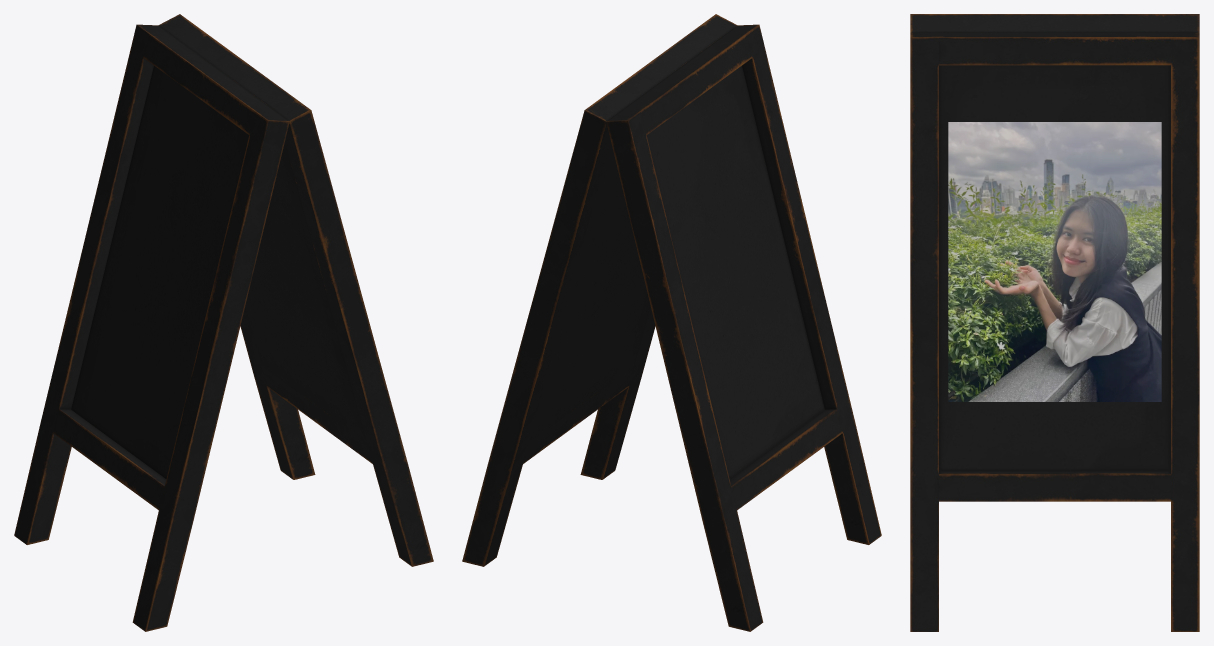
The model's file is mintdesSign.glb.
The picture shows the model from 3 angles, left to right: view 1: azimuth 30°, elevation 25°; view 2: azimuth 150°, elevation 25°; view 3: azimuth 270°, elevation 25°; orthographic projection. The views are drawn at different scales.
Visible parts, largest first — view 1: mintdes; view 2: mintdes; view 3: mintdes.
Boxes of the visible parts, bbox=[...] form: mintdes: bbox=[14, 14, 433, 631]; mintdes: bbox=[462, 14, 881, 631]; mintdes: bbox=[910, 14, 1199, 631].
Size of the model in its own units: 19.79 by 31.57 by 15.63.
2 materials, 2 textured.
